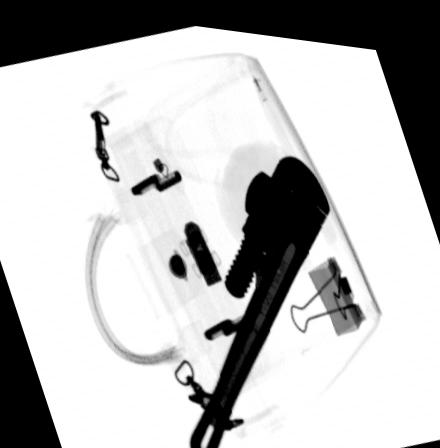Wrench: (186, 145, 332, 448)
